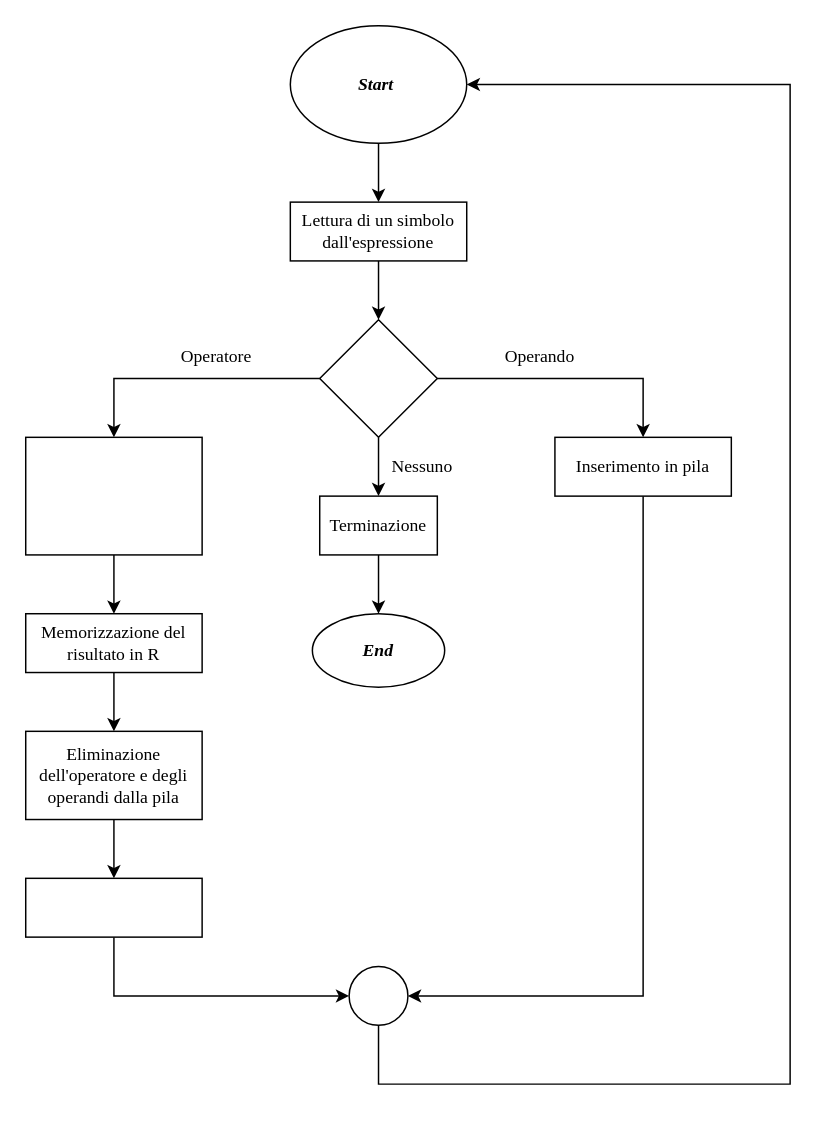
The diagram is 828 pixels wide and 1122 high, and some of its shapes have lost their labels. The shapes that lost their labels are listed below. From the top down, each one's centre as x and y in pixels, then its label:
At point (377, 377): "Simbolo letto".
At point (113, 495): "Applicazione dell'operatore a n operandi immediamente precedenti sulla pila".
At point (113, 907): "Memorizzazione di R sulla pila".
